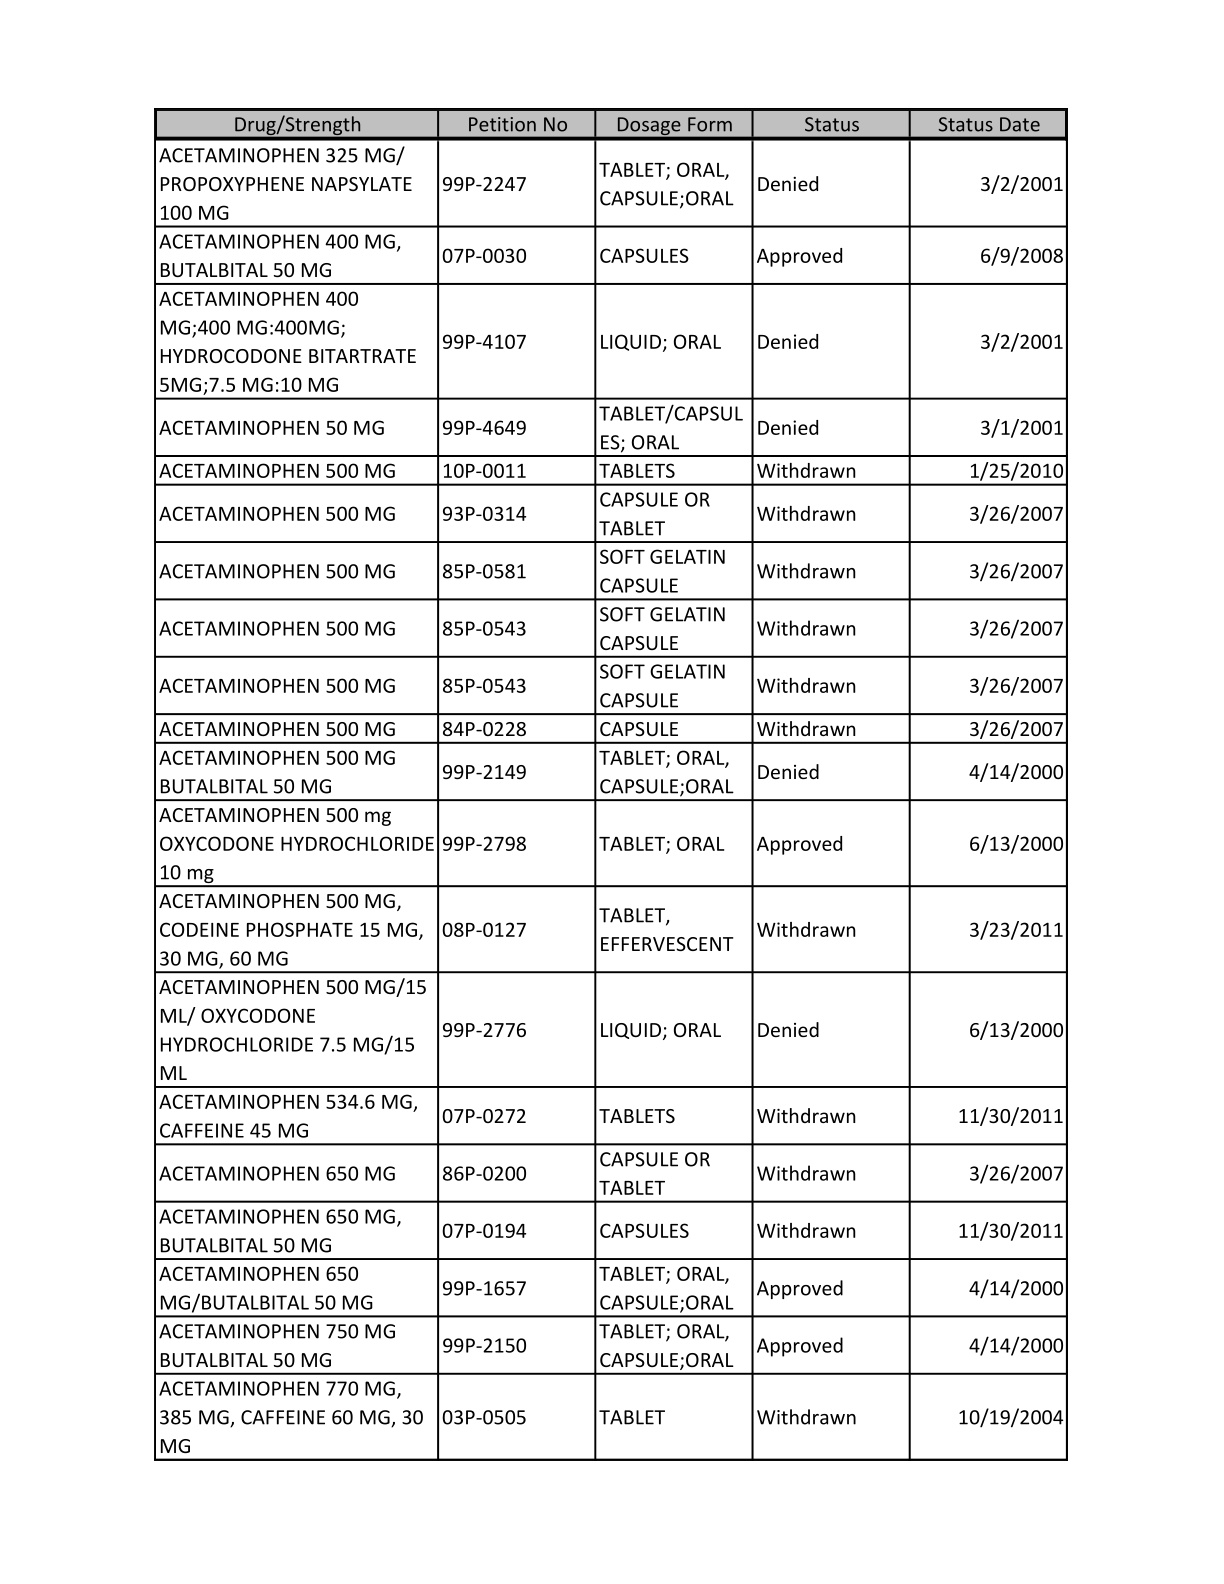full_lined: (153, 107, 1068, 1461)
